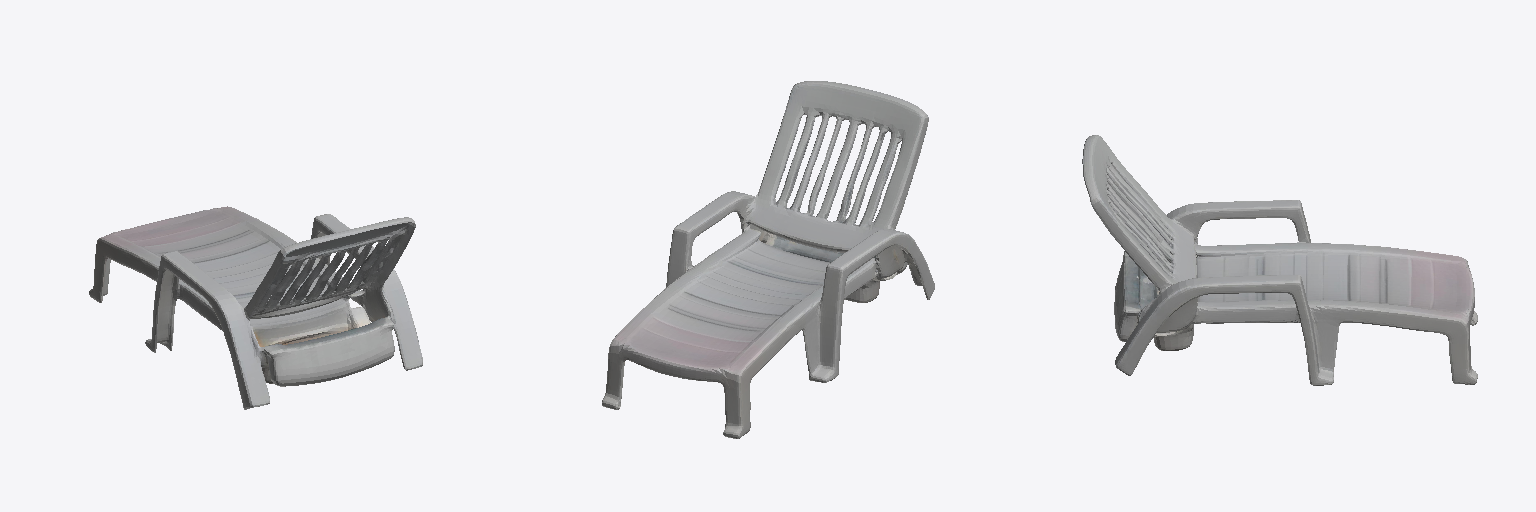
The picture shows the model from 3 angles: view 1: azimuth 30°, elevation 25°; view 2: azimuth 150°, elevation 25°; view 3: azimuth 270°, elevation 25°; orthographic projection.
Visible parts, largest first — view 1: tripo_node_a2ab162a-846a-44d2-85e9-5f33a94eb912; view 2: tripo_node_a2ab162a-846a-44d2-85e9-5f33a94eb912; view 3: tripo_node_a2ab162a-846a-44d2-85e9-5f33a94eb912.
Part boxes in pixels (bbox=[...]): tripo_node_a2ab162a-846a-44d2-85e9-5f33a94eb912: bbox=[89, 206, 422, 409]; tripo_node_a2ab162a-846a-44d2-85e9-5f33a94eb912: bbox=[602, 81, 934, 438]; tripo_node_a2ab162a-846a-44d2-85e9-5f33a94eb912: bbox=[1082, 135, 1477, 385].
Bounding box in the file's own units: 0.4838 × 0.5083 × 0.9468.
Materials: 1 (1 with a texture image).